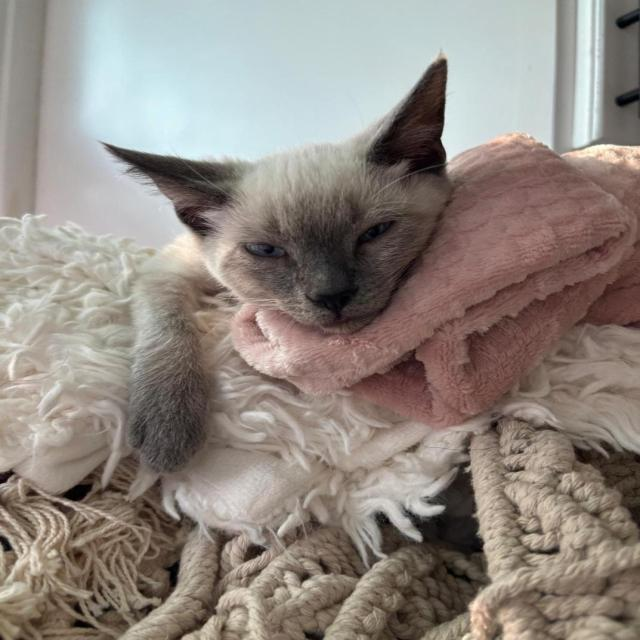siamese_cat: (80, 51, 470, 346)
